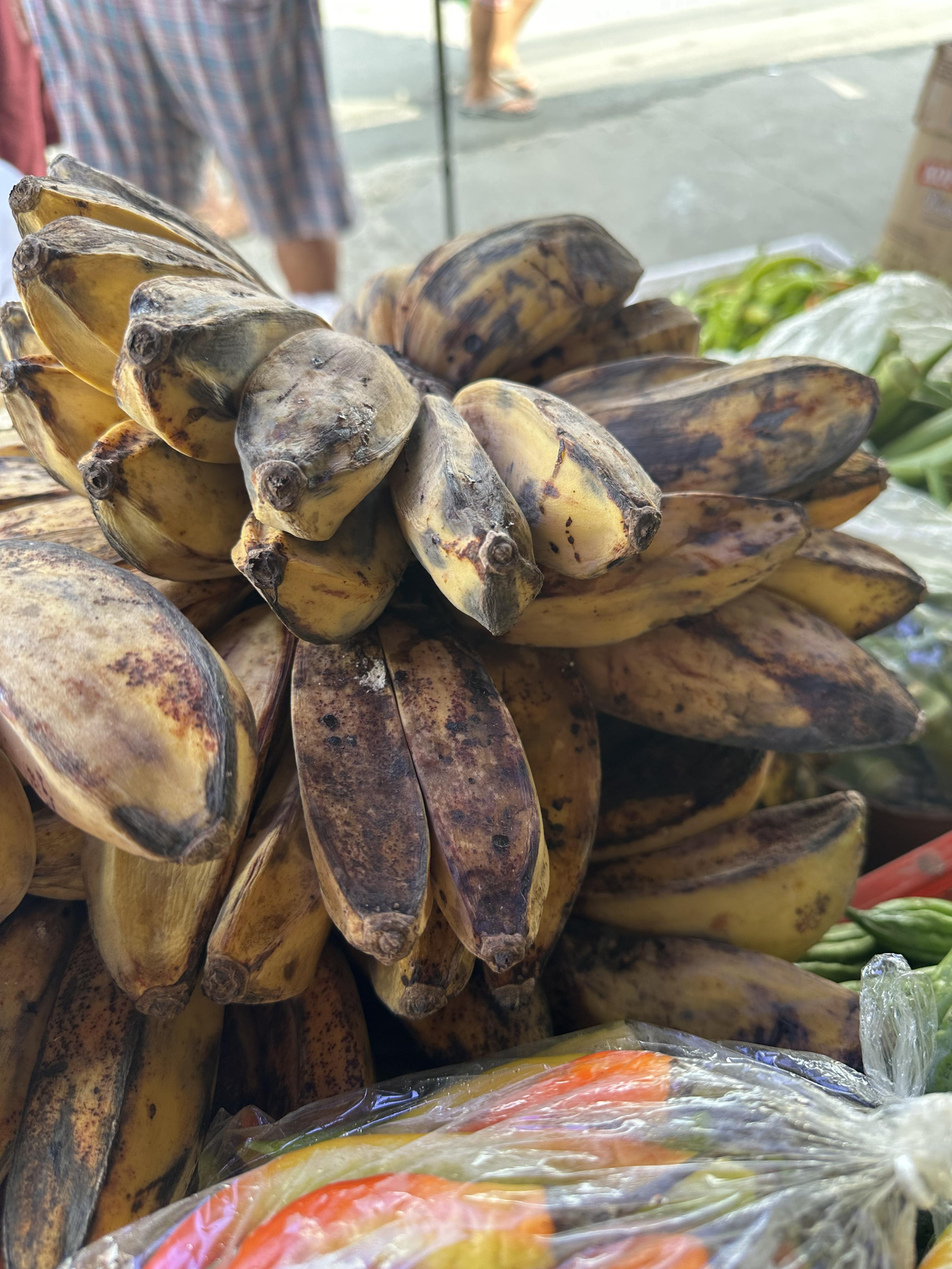ripe: (0, 153, 666, 648), (329, 214, 930, 752), (79, 554, 601, 1023), (0, 892, 556, 1269), (539, 712, 868, 1076)
